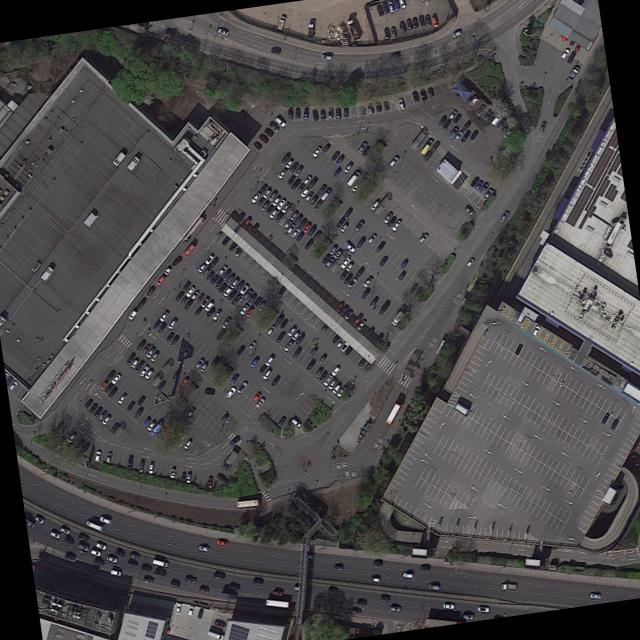large-vehicle: (220, 448, 238, 471), (384, 401, 401, 425), (345, 17, 359, 40), (265, 598, 288, 608), (206, 629, 223, 640), (235, 499, 258, 507), (567, 65, 579, 80), (276, 15, 285, 31), (219, 591, 237, 599), (499, 582, 516, 590), (307, 22, 313, 37)
small-vehicle: (345, 169, 360, 187), (419, 138, 433, 155), (390, 310, 404, 326), (149, 421, 163, 436), (182, 242, 195, 258), (85, 519, 102, 531), (235, 380, 248, 394), (343, 240, 356, 253), (319, 187, 331, 201), (447, 125, 459, 139), (137, 364, 149, 378), (224, 385, 236, 399), (351, 313, 362, 328), (289, 177, 301, 190), (354, 319, 366, 332), (274, 115, 286, 128), (381, 211, 393, 224), (338, 256, 350, 269), (245, 292, 257, 305), (361, 275, 373, 288), (282, 338, 293, 352), (372, 332, 383, 346), (478, 181, 489, 195), (474, 103, 485, 117), (390, 218, 401, 232), (80, 440, 91, 454), (377, 301, 388, 315), (305, 177, 317, 189), (330, 382, 342, 394), (215, 264, 227, 276), (157, 310, 169, 322), (109, 372, 121, 384), (151, 558, 167, 567), (237, 303, 249, 315), (227, 434, 239, 446), (215, 472, 227, 484), (275, 198, 286, 211), (266, 189, 277, 202), (315, 184, 326, 197), (249, 191, 260, 204), (274, 330, 285, 343), (322, 373, 333, 386), (495, 117, 506, 130), (452, 129, 463, 142), (459, 130, 470, 143), (429, 140, 440, 153), (482, 187, 493, 200), (498, 209, 509, 222), (481, 109, 492, 122), (369, 198, 380, 211), (356, 140, 367, 153), (353, 219, 364, 232), (388, 154, 399, 167), (166, 317, 177, 330), (144, 346, 155, 359), (92, 404, 103, 417), (184, 285, 195, 298), (342, 272, 353, 285), (220, 316, 231, 329), (180, 345, 191, 358), (267, 207, 278, 219), (289, 226, 300, 238), (234, 211, 245, 223), (200, 265, 211, 277), (240, 216, 251, 228), (248, 223, 259, 235), (155, 273, 166, 285), (259, 199, 270, 211), (287, 161, 298, 173), (312, 198, 323, 210), (261, 187, 272, 199), (203, 253, 214, 265), (290, 347, 301, 359), (272, 315, 283, 327), (326, 377, 337, 389), (335, 385, 346, 397), (502, 128, 513, 140), (374, 240, 385, 252), (342, 161, 353, 173), (366, 232, 377, 244), (323, 256, 334, 268), (319, 252, 330, 264), (65, 431, 76, 443), (145, 419, 156, 431), (104, 369, 115, 381), (143, 368, 154, 380), (140, 342, 151, 354), (333, 301, 344, 313), (87, 401, 98, 413), (228, 277, 239, 289), (238, 283, 249, 295), (204, 306, 215, 318), (367, 296, 378, 308), (346, 276, 357, 288), (353, 267, 364, 279), (269, 375, 280, 387), (215, 329, 226, 341), (135, 297, 146, 309), (108, 421, 119, 433), (263, 355, 274, 367), (234, 344, 245, 356), (253, 396, 264, 408), (228, 372, 239, 384), (301, 221, 311, 234), (294, 333, 304, 346), (311, 145, 321, 158), (566, 50, 576, 63), (151, 318, 161, 331), (75, 437, 85, 450), (98, 515, 111, 525), (107, 385, 117, 398), (251, 295, 261, 308), (242, 287, 252, 300), (127, 308, 137, 321), (600, 411, 609, 425), (170, 256, 181, 267), (257, 133, 268, 144), (318, 322, 329, 333), (329, 365, 340, 376), (208, 273, 219, 284), (417, 232, 428, 243), (290, 417, 301, 428), (338, 221, 349, 232), (331, 248, 342, 259), (221, 286, 232, 297), (233, 280, 244, 291), (173, 290, 184, 301), (100, 414, 111, 425), (294, 230, 304, 242), (285, 222, 295, 234), (227, 240, 237, 252), (144, 285, 154, 297), (279, 153, 289, 165), (299, 186, 309, 198), (305, 359, 315, 371), (308, 345, 318, 357), (413, 285, 423, 297), (398, 258, 408, 270), (377, 255, 387, 267), (275, 415, 285, 427), (500, 121, 510, 133), (350, 180, 360, 192), (422, 149, 432, 161), (473, 179, 483, 191), (341, 208, 351, 220), (386, 215, 396, 227), (329, 149, 339, 161), (334, 154, 344, 166), (334, 217, 344, 229), (327, 243, 337, 255), (7, 379, 17, 391), (80, 441, 90, 453), (164, 330, 174, 342), (132, 408, 142, 420), (125, 399, 135, 411), (103, 382, 113, 394), (171, 368, 181, 380), (155, 379, 165, 391), (134, 360, 144, 372), (129, 357, 139, 369), (125, 352, 135, 364), (149, 350, 159, 362), (135, 339, 145, 351), (168, 334, 178, 346), (92, 557, 104, 567), (226, 288, 236, 300), (199, 296, 209, 308), (360, 288, 370, 300), (211, 308, 221, 320), (182, 438, 192, 450), (194, 357, 204, 369), (261, 368, 271, 380), (219, 411, 229, 423), (179, 375, 189, 387), (209, 355, 219, 367), (609, 417, 618, 430), (513, 342, 522, 355), (531, 324, 540, 337), (437, 114, 446, 127), (560, 47, 569, 60), (125, 456, 133, 470), (273, 210, 283, 221), (292, 214, 302, 225), (296, 218, 306, 229), (233, 246, 243, 257), (196, 262, 206, 273), (270, 195, 280, 206), (264, 203, 274, 214), (276, 168, 286, 179), (285, 174, 295, 185), (304, 190, 314, 201), (308, 194, 318, 205), (208, 256, 218, 267), (342, 309, 352, 320), (356, 356, 366, 367), (330, 333, 340, 344), (286, 326, 296, 337), (278, 318, 288, 329), (364, 327, 374, 338), (220, 269, 230, 280), (224, 274, 234, 285), (181, 280, 191, 291), (408, 282, 418, 293), (331, 167, 341, 178), (460, 121, 470, 132), (468, 129, 478, 140), (450, 28, 461, 38), (360, 145, 370, 156), (344, 261, 354, 272), (156, 322, 166, 333), (116, 393, 126, 404), (114, 548, 125, 558), (83, 397, 93, 408), (229, 295, 239, 306), (192, 306, 202, 317), (276, 285, 286, 296), (257, 363, 267, 374), (248, 356, 258, 367), (280, 201, 289, 213), (220, 234, 229, 246), (293, 165, 302, 177), (302, 173, 311, 185), (397, 21, 406, 33), (216, 27, 228, 36), (355, 237, 364, 249), (48, 530, 60, 539), (76, 542, 88, 551), (94, 541, 106, 550), (136, 394, 145, 406), (105, 554, 117, 563), (184, 575, 196, 584), (213, 619, 225, 628), (178, 294, 187, 306), (183, 298, 192, 310), (198, 361, 207, 373), (252, 390, 261, 402), (430, 15, 438, 28), (419, 88, 427, 101), (282, 218, 292, 228), (288, 210, 298, 220), (263, 127, 273, 137), (295, 182, 305, 192), (290, 330, 300, 340), (441, 119, 451, 129), (463, 205, 473, 215), (258, 183, 267, 194), (317, 371, 326, 382), (343, 345, 352, 356), (339, 341, 348, 352), (335, 338, 344, 349), (205, 270, 214, 281), (266, 324, 275, 335), (396, 271, 405, 282), (469, 176, 478, 187), (320, 143, 329, 154), (373, 101, 382, 112), (339, 304, 348, 315), (77, 533, 88, 542), (33, 515, 44, 524), (89, 548, 100, 557), (217, 282, 226, 293), (189, 289, 198, 300), (338, 269, 347, 280), (97, 409, 106, 420), (186, 406, 195, 417), (538, 120, 546, 132), (423, 14, 431, 26), (375, 4, 383, 16), (109, 568, 121, 576), (153, 569, 165, 577), (215, 538, 227, 546), (136, 460, 144, 472), (387, 0, 394, 13), (381, 1, 388, 14), (389, 26, 396, 39), (383, 26, 390, 39), (311, 108, 318, 121), (397, 97, 404, 110), (588, 592, 601, 599), (476, 606, 489, 613), (441, 602, 454, 609), (174, 602, 181, 615), (168, 466, 175, 479), (105, 451, 112, 464), (162, 265, 171, 275), (255, 196, 264, 206), (313, 367, 322, 377), (214, 277, 223, 287), (465, 257, 474, 267), (447, 109, 456, 119), (452, 113, 461, 123), (63, 536, 73, 545), (142, 416, 151, 426), (99, 380, 108, 390), (244, 307, 253, 317), (256, 301, 265, 311), (195, 292, 204, 302), (269, 46, 280, 54), (59, 526, 70, 534), (128, 551, 139, 559), (126, 560, 137, 568), (140, 564, 151, 572), (142, 576, 153, 584), (417, 15, 424, 27), (392, 0, 399, 12), (405, 18, 412, 30), (366, 102, 373, 114), (461, 613, 473, 620), (427, 583, 439, 590), (187, 604, 194, 616), (196, 607, 203, 619), (213, 572, 225, 579), (93, 450, 100, 462), (252, 141, 261, 150), (573, 42, 582, 51), (247, 340, 256, 349), (88, 566, 98, 574), (198, 586, 208, 594), (568, 35, 576, 45), (334, 107, 340, 120), (227, 583, 240, 589), (320, 53, 331, 60), (411, 91, 418, 102), (382, 99, 389, 110), (64, 553, 75, 560), (389, 605, 400, 612), (197, 544, 208, 551), (169, 580, 180, 587), (561, 30, 568, 41), (203, 388, 214, 395), (284, 159, 292, 168), (317, 355, 325, 364), (398, 0, 406, 9), (342, 105, 348, 117), (319, 109, 325, 121), (147, 462, 153, 474), (206, 476, 212, 488), (426, 87, 433, 97), (389, 52, 399, 59), (418, 564, 428, 571), (327, 587, 337, 594), (411, 17, 417, 28), (356, 600, 367, 606), (252, 578, 263, 584), (185, 472, 191, 483), (332, 564, 341, 571), (327, 107, 332, 119), (287, 108, 292, 120), (380, 595, 390, 601), (351, 608, 361, 614), (402, 572, 412, 578), (369, 576, 379, 582), (371, 560, 381, 566), (272, 590, 282, 596), (179, 472, 185, 482), (303, 108, 308, 119), (294, 108, 299, 119), (303, 554, 312, 559), (293, 585, 301, 590)
storage-tank: (9, 75, 27, 95)
